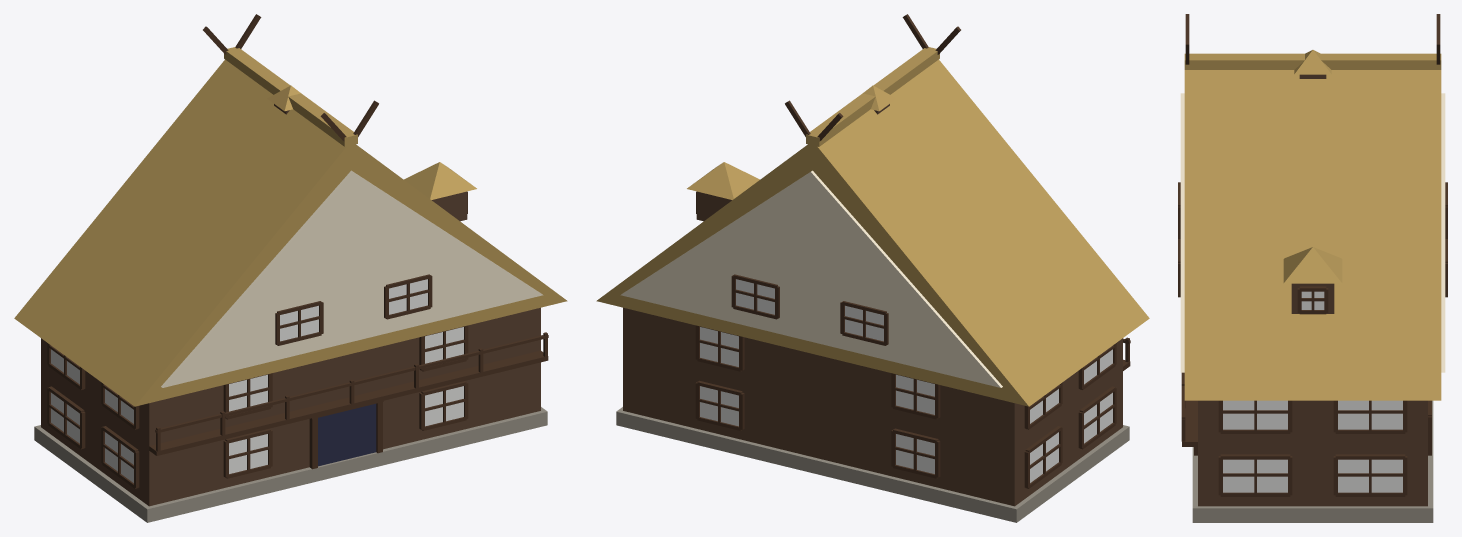
The model's file is house-2x1-2f-third-gassho-a.glb.
3 views of the same model, side by side, from view 1: azimuth 30°, elevation 25°; view 2: azimuth 150°, elevation 25°; view 3: azimuth 270°, elevation 25° (orthographic). The views are drawn at different scales.
Parts seen in each view (by area): view 1: house-2x1-2f-third-gassho-a; view 2: house-2x1-2f-third-gassho-a; view 3: house-2x1-2f-third-gassho-a.
Boxes of the visible parts, x1,y1,x2,y2 form: house-2x1-2f-third-gassho-a: (14, 14, 567, 522); house-2x1-2f-third-gassho-a: (596, 14, 1149, 522); house-2x1-2f-third-gassho-a: (1178, 14, 1447, 522).
Size of the model in its own units: 1.99 by 1.62 by 1.01.
1 material, 1 textured.
